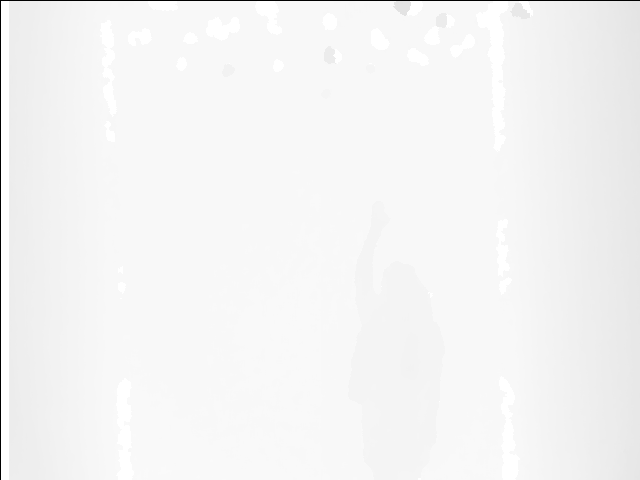hand: (368, 197, 391, 230)
